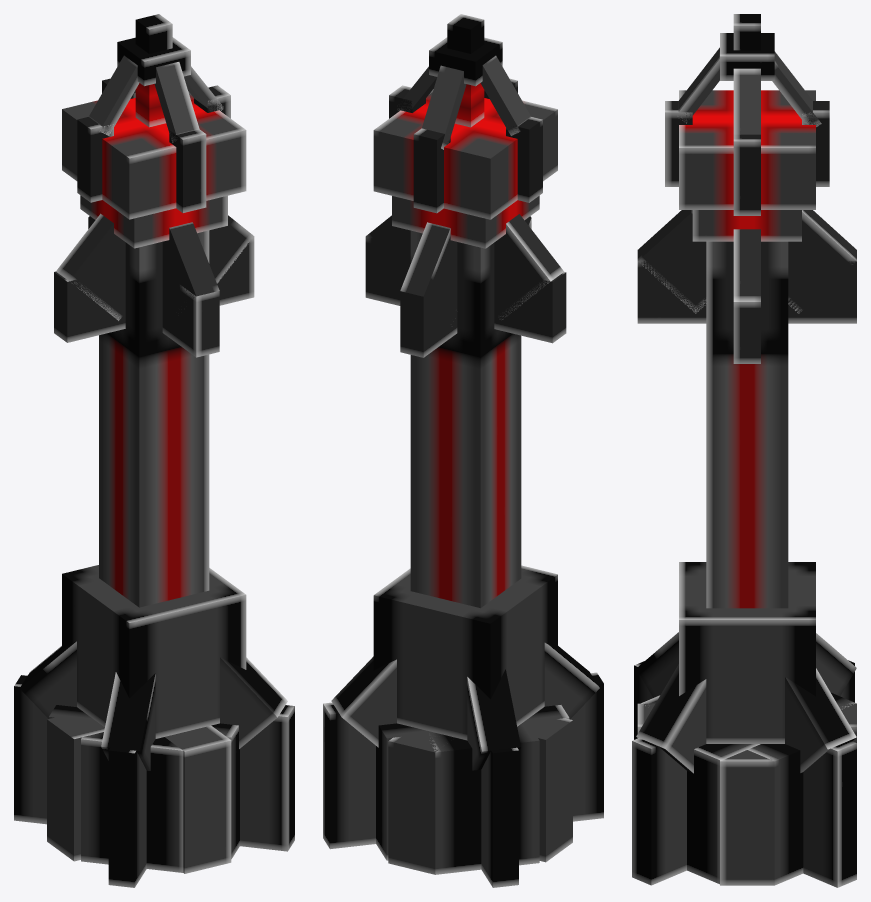
The model's file is missile_redmatter.obj.
3 renders of one model, left to right at view 1: azimuth 30°, elevation 25°; view 2: azimuth 150°, elevation 25°; view 3: azimuth 270°, elevation 25°, orthographic.
Visible parts, largest first — view 1: Shape3.003, Shape4.003, Shape8.003, Shape2.003, Shape1.003, Shape12.003, Shape13.003, Shape11d, Shape2a, Shape2z, Shape10, Shape11e (+13 smaller); view 2: Shape3.003, Shape4.003, Shape8.003, Shape2a, Shape1a, Shape11d, Shape12.003, Shape14.003, Shape2.003, Shape2z, Shape10, Shape11e (+13 smaller); view 3: Shape3.003, Shape4.003, Shape8.003, Shape11e, Shape2a, Shape2.003, Shape2z, Shape14.003, Shape13.003, Shape1a, Shape1.003, Shape10a.004 (+13 smaller).
Part boxes in pixels (x1,y1,x2,y2): Shape3.003: [99, 230, 209, 607]; Shape4.003: [62, 565, 246, 738]; Shape8.003: [62, 91, 246, 219]; Shape2.003: [14, 675, 294, 851]; Shape1.003: [81, 722, 183, 872]; Shape12.003: [165, 725, 231, 873]; Shape13.003: [19, 641, 287, 748]; Shape11d: [54, 236, 254, 342]; Shape2a: [108, 748, 146, 887]; Shape2z: [47, 717, 104, 861]; Shape10: [56, 213, 125, 320]; Shape11e: [88, 217, 219, 357]; Shape3.003: [410, 230, 521, 608]; Shape4.003: [373, 565, 557, 740]; Shape8.003: [373, 89, 557, 219]; Shape2a: [323, 672, 603, 849]; Shape1a: [429, 720, 539, 874]; Shape11d: [365, 236, 566, 343]; Shape12.003: [388, 733, 447, 874]; Shape14.003: [331, 643, 599, 747]; Shape2.003: [481, 747, 518, 887]; Shape2z: [528, 718, 572, 862]; Shape10: [494, 214, 563, 319]; Shape11e: [400, 218, 531, 357]; Shape3.003: [706, 241, 788, 608]; Shape4.003: [679, 562, 815, 743]; Shape8.003: [679, 90, 815, 209]; Shape11e: [637, 261, 856, 323]; Shape2a: [634, 661, 856, 887]; Shape2.003: [632, 660, 854, 885]; Shape2z: [720, 750, 774, 885]; Shape14.003: [636, 632, 856, 772]; Shape13.003: [636, 633, 856, 773]; Shape1a: [687, 692, 856, 884]; Shape1.003: [641, 695, 803, 885]; Shape10a.004: [637, 210, 706, 313].
Bounding box in the file's own units: 1.04 × 4.13 × 1.03.
